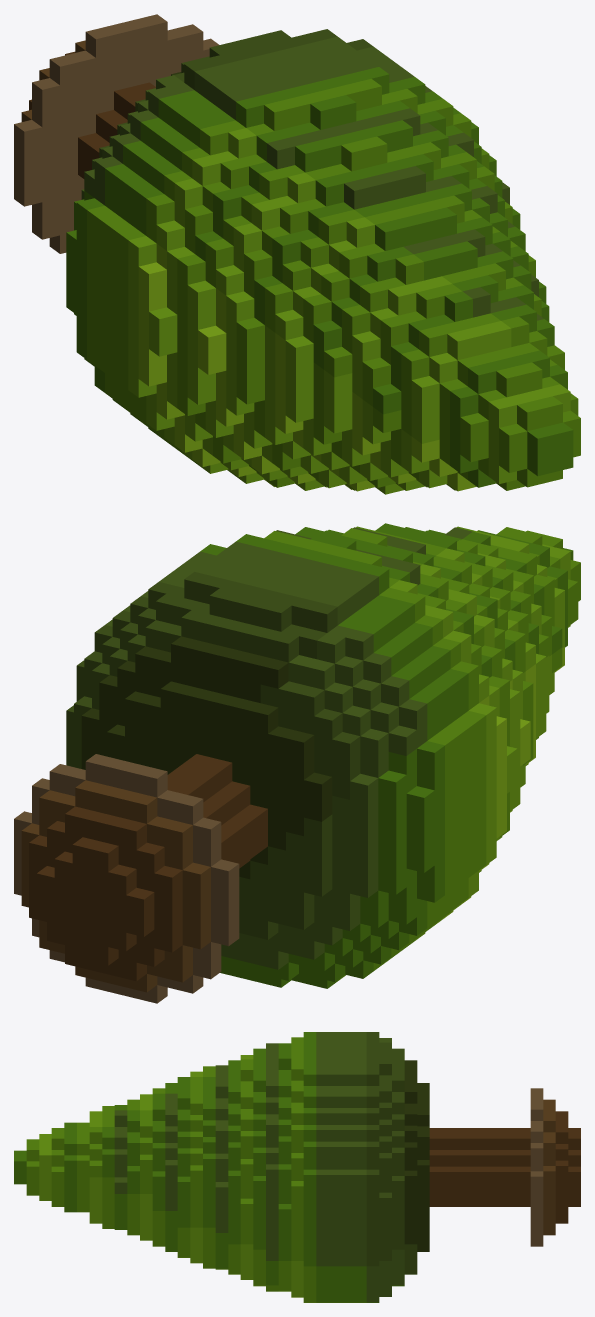
The model's file is tree_bright_green.obj.
3 renders of one model, top to bottom at view 1: azimuth 30°, elevation 25°; view 2: azimuth 150°, elevation 25°; view 3: azimuth 270°, elevation 25°, orthographic. The views are drawn at different scales.
Size of the model in its own units: 2 by 2 by 4.5.
Materials: 1 (1 with a texture image).
